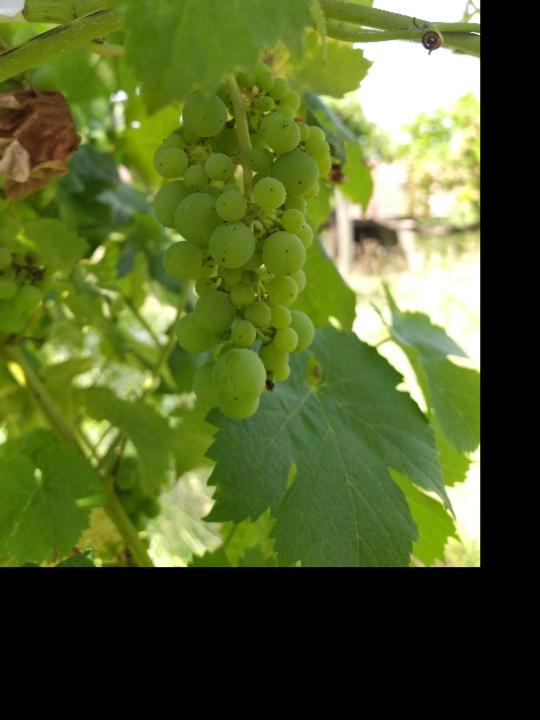grape: (152, 61, 334, 423)
